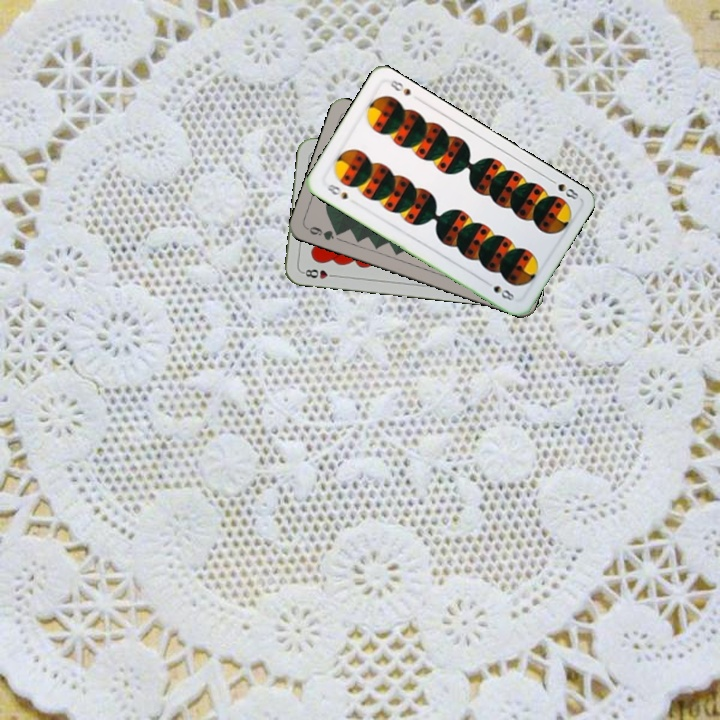G9: (303, 222, 344, 243)
H8: (298, 265, 339, 281)
S8: (545, 174, 581, 202), (323, 180, 350, 202)
